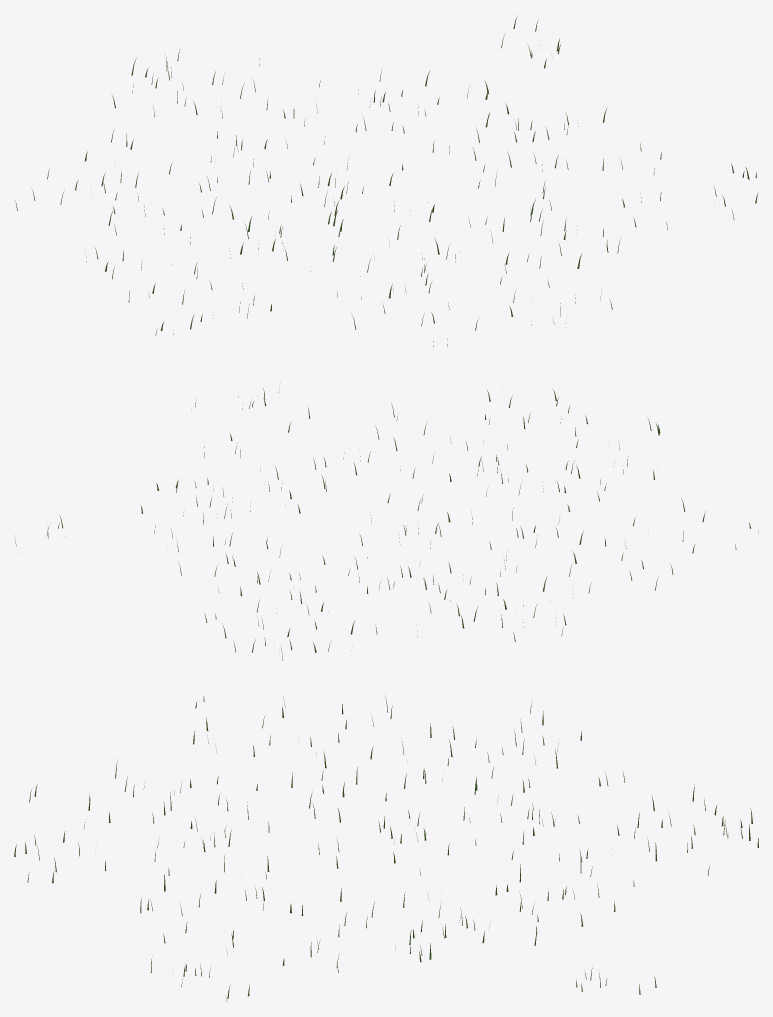
The picture shows the model from 3 angles, top to bottom: view 1: azimuth 30°, elevation 25°; view 2: azimuth 150°, elevation 25°; view 3: azimuth 270°, elevation 25°; orthographic projection. The views are drawn at different scales.
Parts seen in each view (by area): view 1: GrassPatch; view 2: GrassPatch; view 3: GrassPatch.
Boxes of the visible parts, x1,y1,x2,y2 form: GrassPatch: (15,15,758,347); GrassPatch: (15,389,758,660); GrassPatch: (14,696,758,1001).
Size of the model in its own units: 16.61 by 0.4919 by 17.38.
